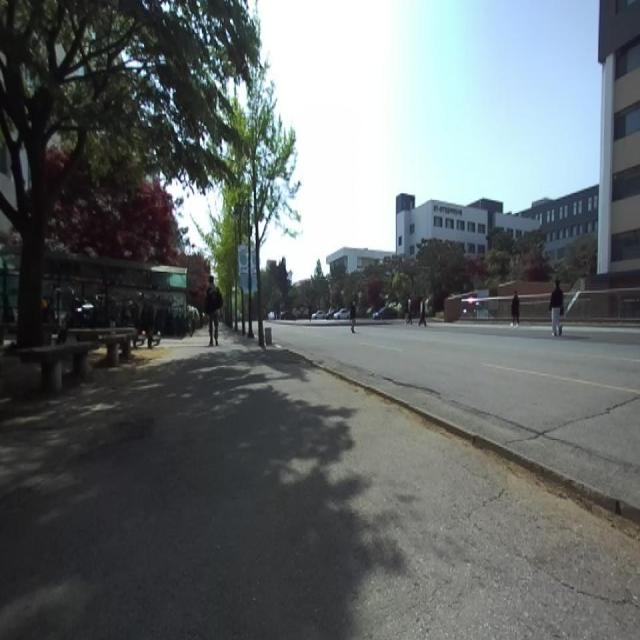sidewalk: (0, 332, 640, 639)
